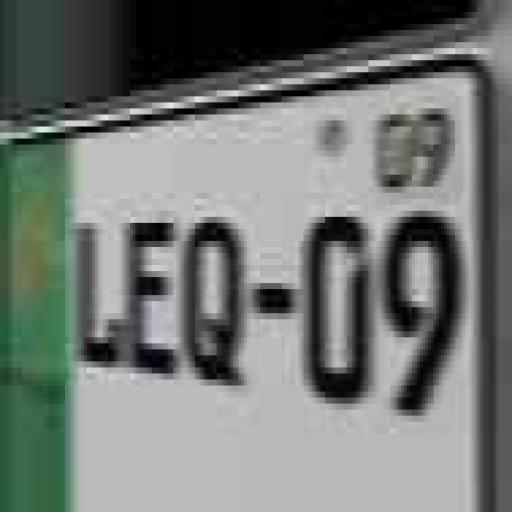0: (301, 208, 373, 402)
9: (380, 220, 466, 425)
E: (125, 223, 175, 378)
L: (77, 208, 121, 380)
Q: (180, 216, 244, 390)
